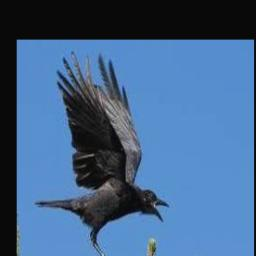Crow: (35, 54, 170, 256)
